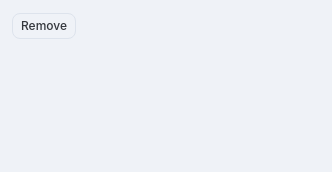
Test: ConfirmAction › while the action runs, both choices are disabled and say so
Click the button "Remove": (44, 26) [12, 13, 76, 39]
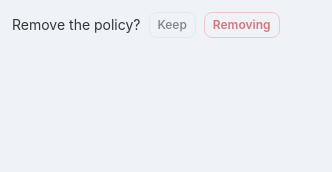
Now the button "Removing" is disabled, box [204, 12, 280, 38]
Now the button "Keep" is disabled, box [148, 12, 196, 38]
